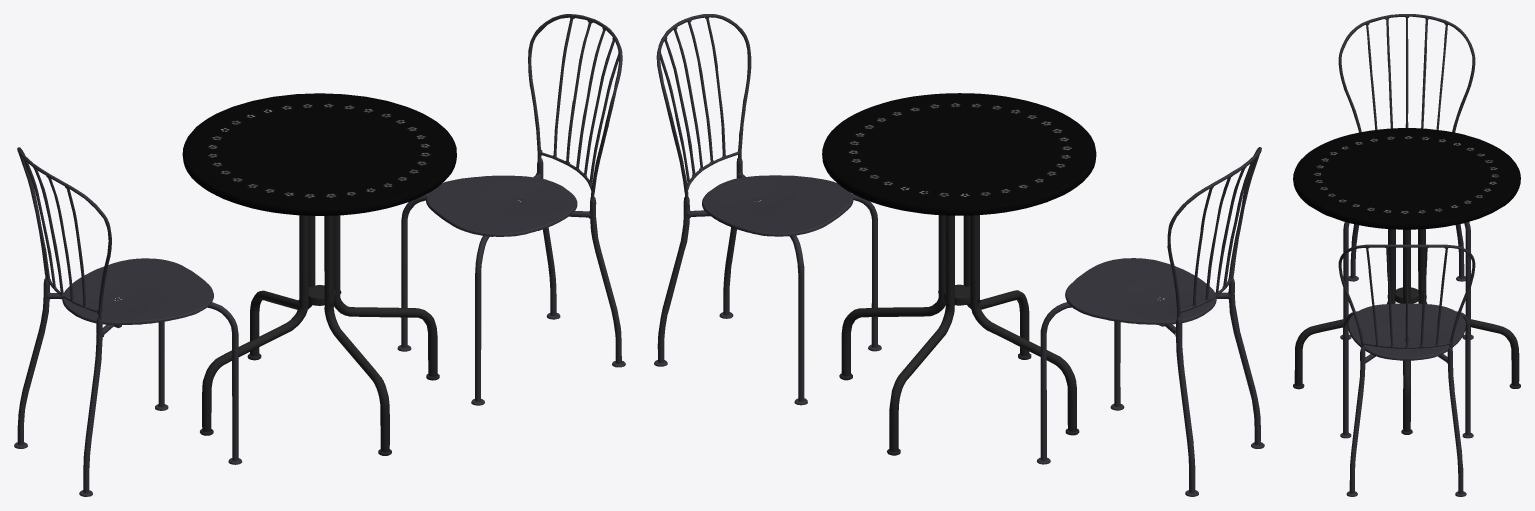
Rendered from lacko_sto_2_krzesa_na_zewnatrz_49898435.glb.
3 renders of one model, left to right at view 1: azimuth 30°, elevation 25°; view 2: azimuth 150°, elevation 25°; view 3: azimuth 270°, elevation 25°, orthographic. The views are drawn at different scales.
Parts seen in each view (by area): view 1: lacko_sto_2_krzesa_na_zewnatrz_49898435; view 2: lacko_sto_2_krzesa_na_zewnatrz_49898435; view 3: lacko_sto_2_krzesa_na_zewnatrz_49898435.
Boxes of the visible parts, x1,y1,x2,y2 form: lacko_sto_2_krzesa_na_zewnatrz_49898435: (14,14,625,496); lacko_sto_2_krzesa_na_zewnatrz_49898435: (654,14,1264,496); lacko_sto_2_krzesa_na_zewnatrz_49898435: (1293,14,1520,496).
Size of the model in its own units: 1.68 by 0.87 by 0.6976.
Materials: 1 (1 with a texture image).
